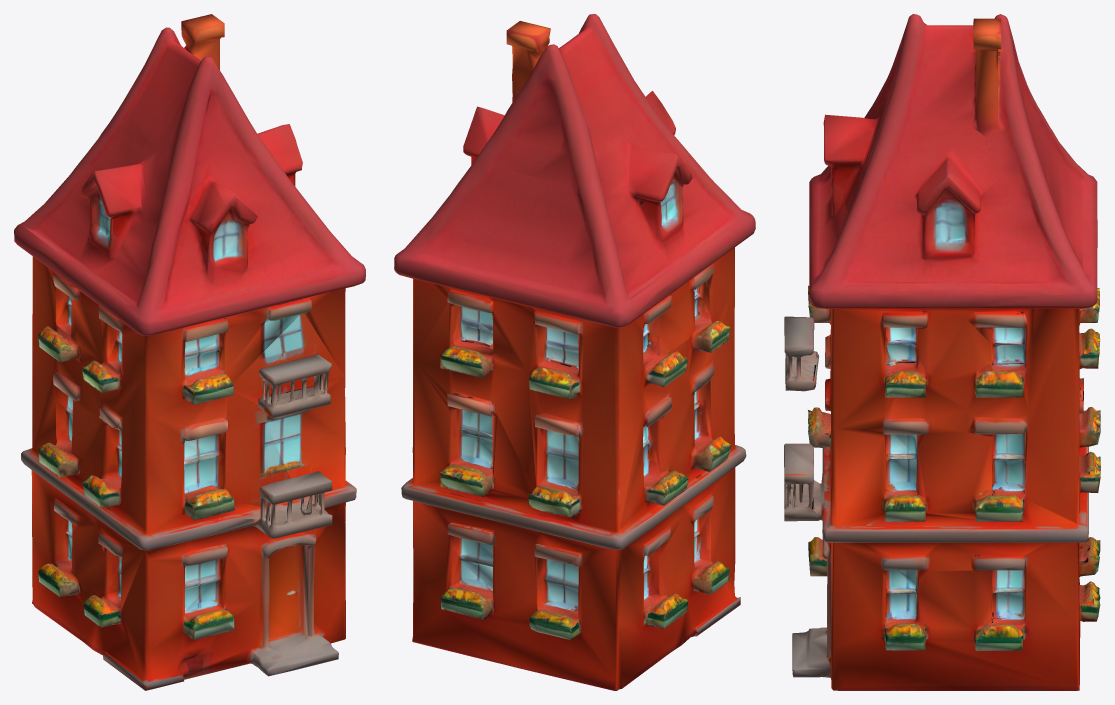
The model's file is env_building_2.glb.
3 views of the same model, side by side, from view 1: azimuth 30°, elevation 25°; view 2: azimuth 150°, elevation 25°; view 3: azimuth 270°, elevation 25° (orthographic). The views are drawn at different scales.
Parts seen in each view (by area): view 1: model; view 2: model; view 3: model.
Boxes of the visible parts, box(x1,y1,x2,y2) form: model: box(14, 14, 365, 690); model: box(394, 14, 755, 690); model: box(784, 14, 1100, 690).
Bounding box in the file's own units: 0.8321 × 1.9 × 0.8702.
Materials: 1 (1 with a texture image).
